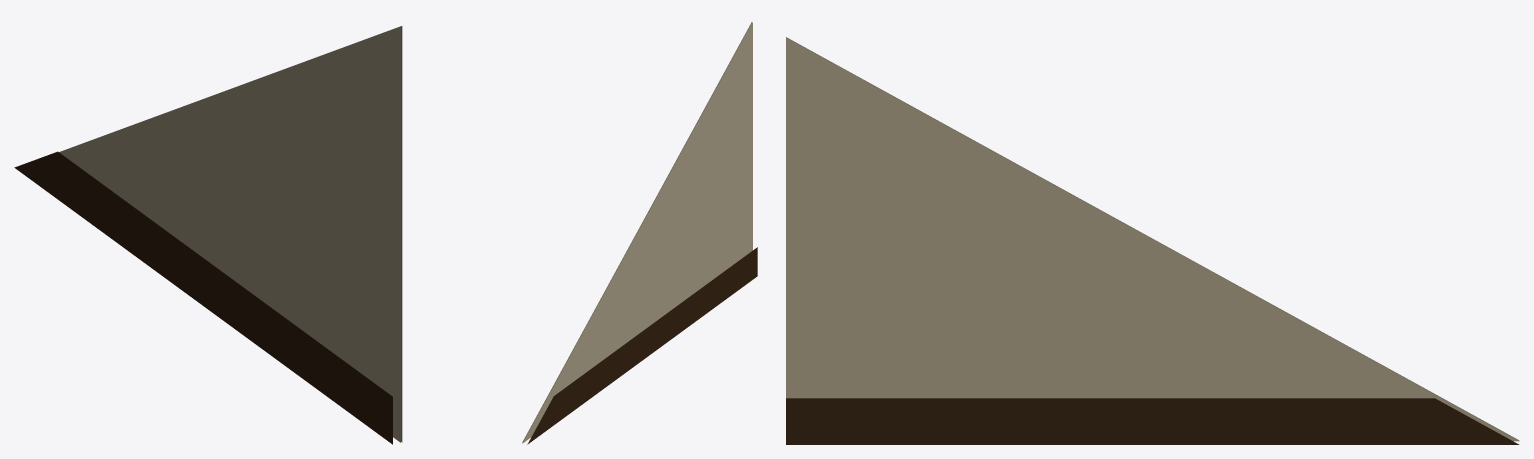
Rendered from wall-halftimber-gable-l.glb.
3 views of the same model, side by side, from view 1: azimuth 30°, elevation 25°; view 2: azimuth 150°, elevation 25°; view 3: azimuth 270°, elevation 25° (orthographic). The views are drawn at different scales.
Visible parts, largest first — view 1: wall-halftimber-gable-l; view 2: wall-halftimber-gable-l; view 3: wall-halftimber-gable-l.
Boxes of the visible parts, x1,y1,x2,y2 form: wall-halftimber-gable-l: (14, 26, 402, 444); wall-halftimber-gable-l: (522, 22, 757, 444); wall-halftimber-gable-l: (786, 37, 1519, 444).
Bounding box in the file's own units: 0.1 × 0.607 × 1.
